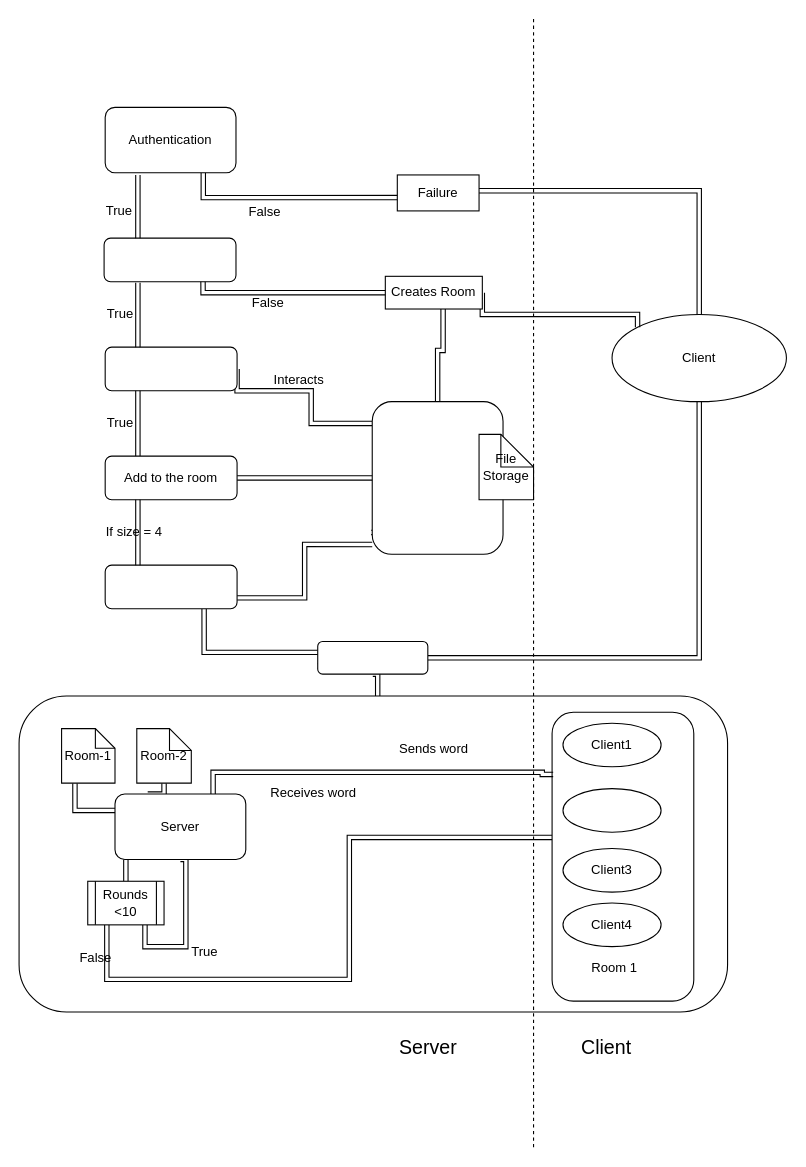
Some shapes in this 806 by 1167 pixel diagram are drawn without their labels. The box of each missing label's shape, as (x1, y1, x2, y2) in pixels:
Client2: (562, 788, 661, 832)
Game: (104, 564, 237, 609)
Game Starts: (317, 640, 428, 674)
Room Client-1 Client-2 Client-3 Client-4: (371, 401, 503, 554)
Room Name Exists?: (103, 237, 236, 282)
Room SIze < 4: (104, 346, 237, 391)
Sends Scores: (18, 695, 728, 1012)
